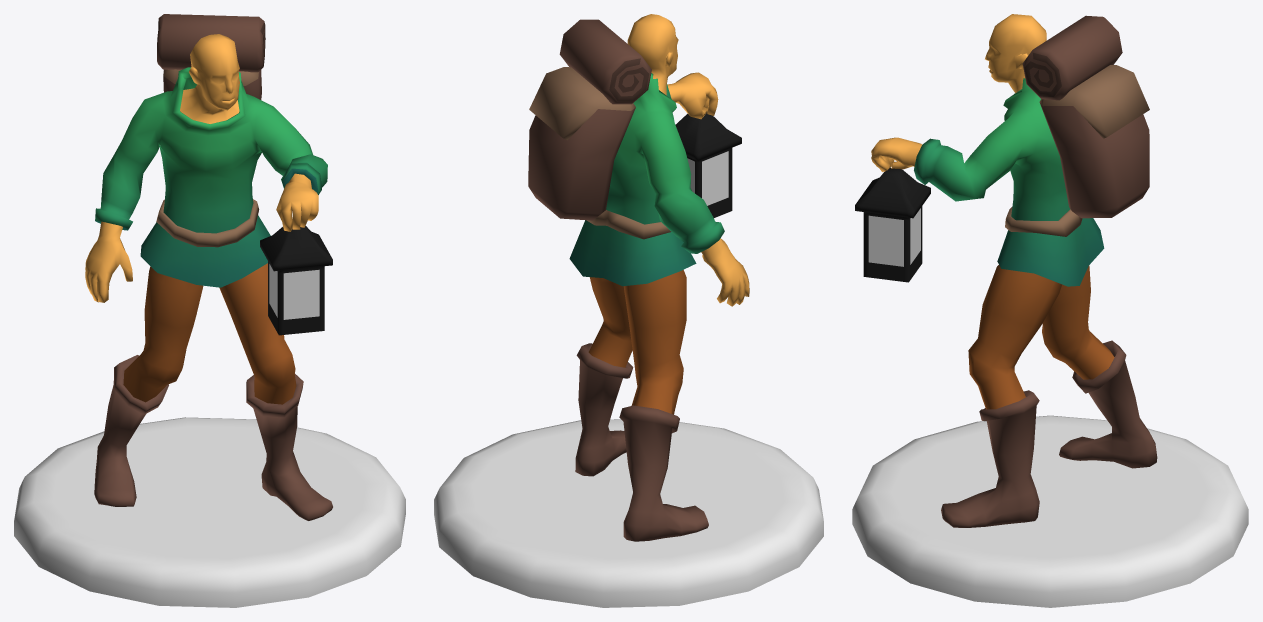
File: player.fbx
3 renders of one model, left to right at view 1: azimuth 30°, elevation 25°; view 2: azimuth 150°, elevation 25°; view 3: azimuth 270°, elevation 25°, orthographic.
Visible parts, largest first — view 1: TestGuy, Base, Lantern, Cube; view 2: Base, TestGuy, Cube, Lantern; view 3: Base, TestGuy, Cube, Lantern.
Part boxes in pixels (x1,y1,x2,y2): TestGuy: (85,34,332,520); Base: (14,417,405,607); Lantern: (260,225,332,335); Cube: (157,14,265,99); Base: (434,419,823,607); TestGuy: (569,14,749,541); Cube: (528,19,651,220); Lantern: (675,111,741,217); Base: (852,415,1248,607); TestGuy: (871,14,1157,527); Cube: (1022,15,1149,218); Lantern: (855,167,930,282).
Size of the model in its own units: 1 by 1.4 by 1.
